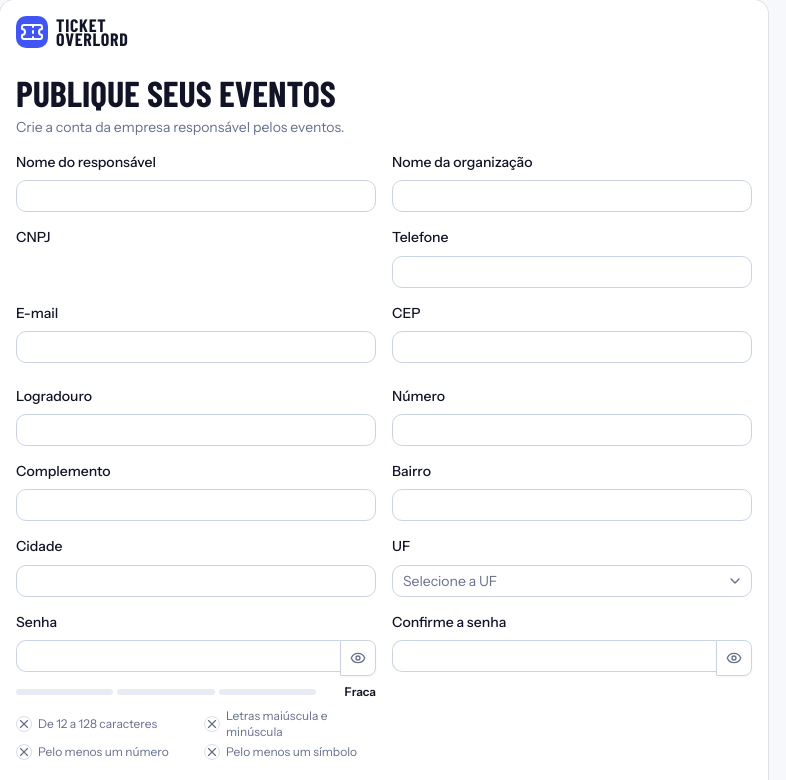
Test: OrganizerRegistrationCard › fills address fields through the application CEP endpoint
In the field labelled "CEP": (572, 347) x1=392 y1=331 x2=752 y2=363, type "01001-000"
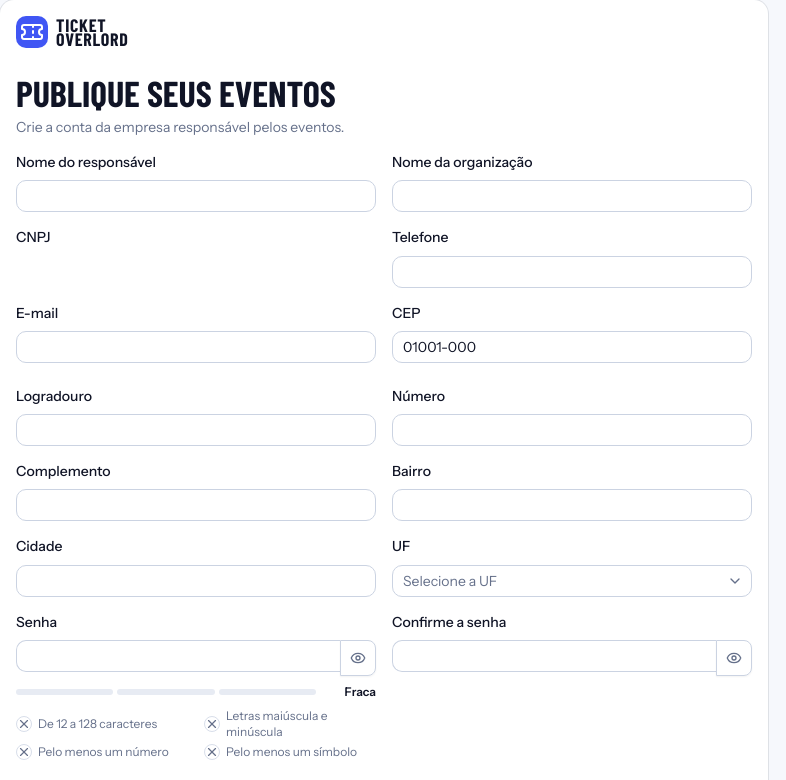
Leave the field labelled "CEP", box x1=392 y1=331 x2=752 y2=363
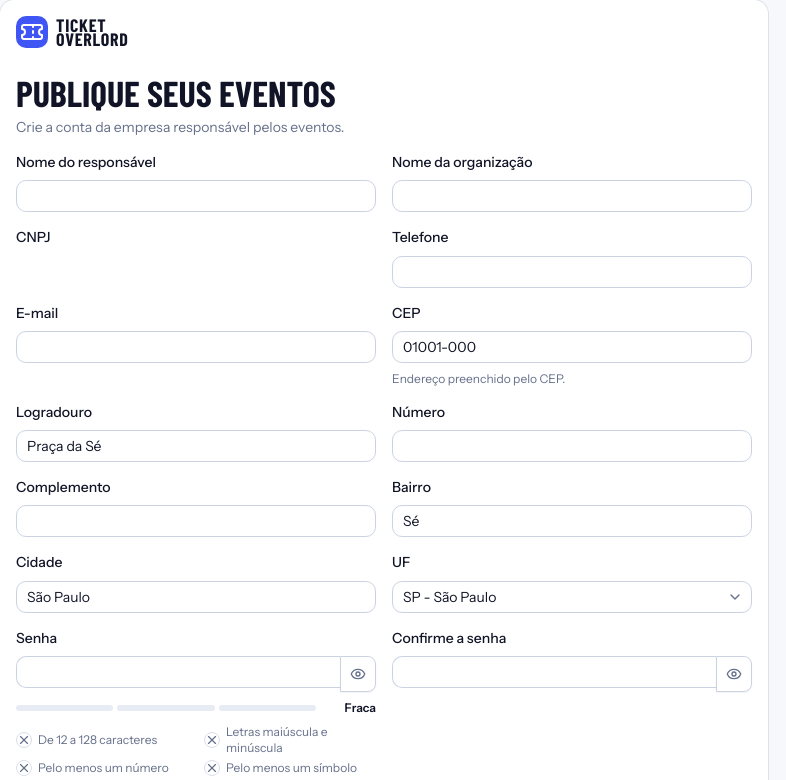
Expected: the text "Endereço preenchido pelo CEP." is shown, x1=392 y1=371 x2=565 y2=386
Expected: the field labelled "Logradouro" holds "Praça da Sé", x1=16 y1=430 x2=376 y2=462
Expected: the field labelled "Bairro" holds "Sé", x1=392 y1=505 x2=752 y2=537
